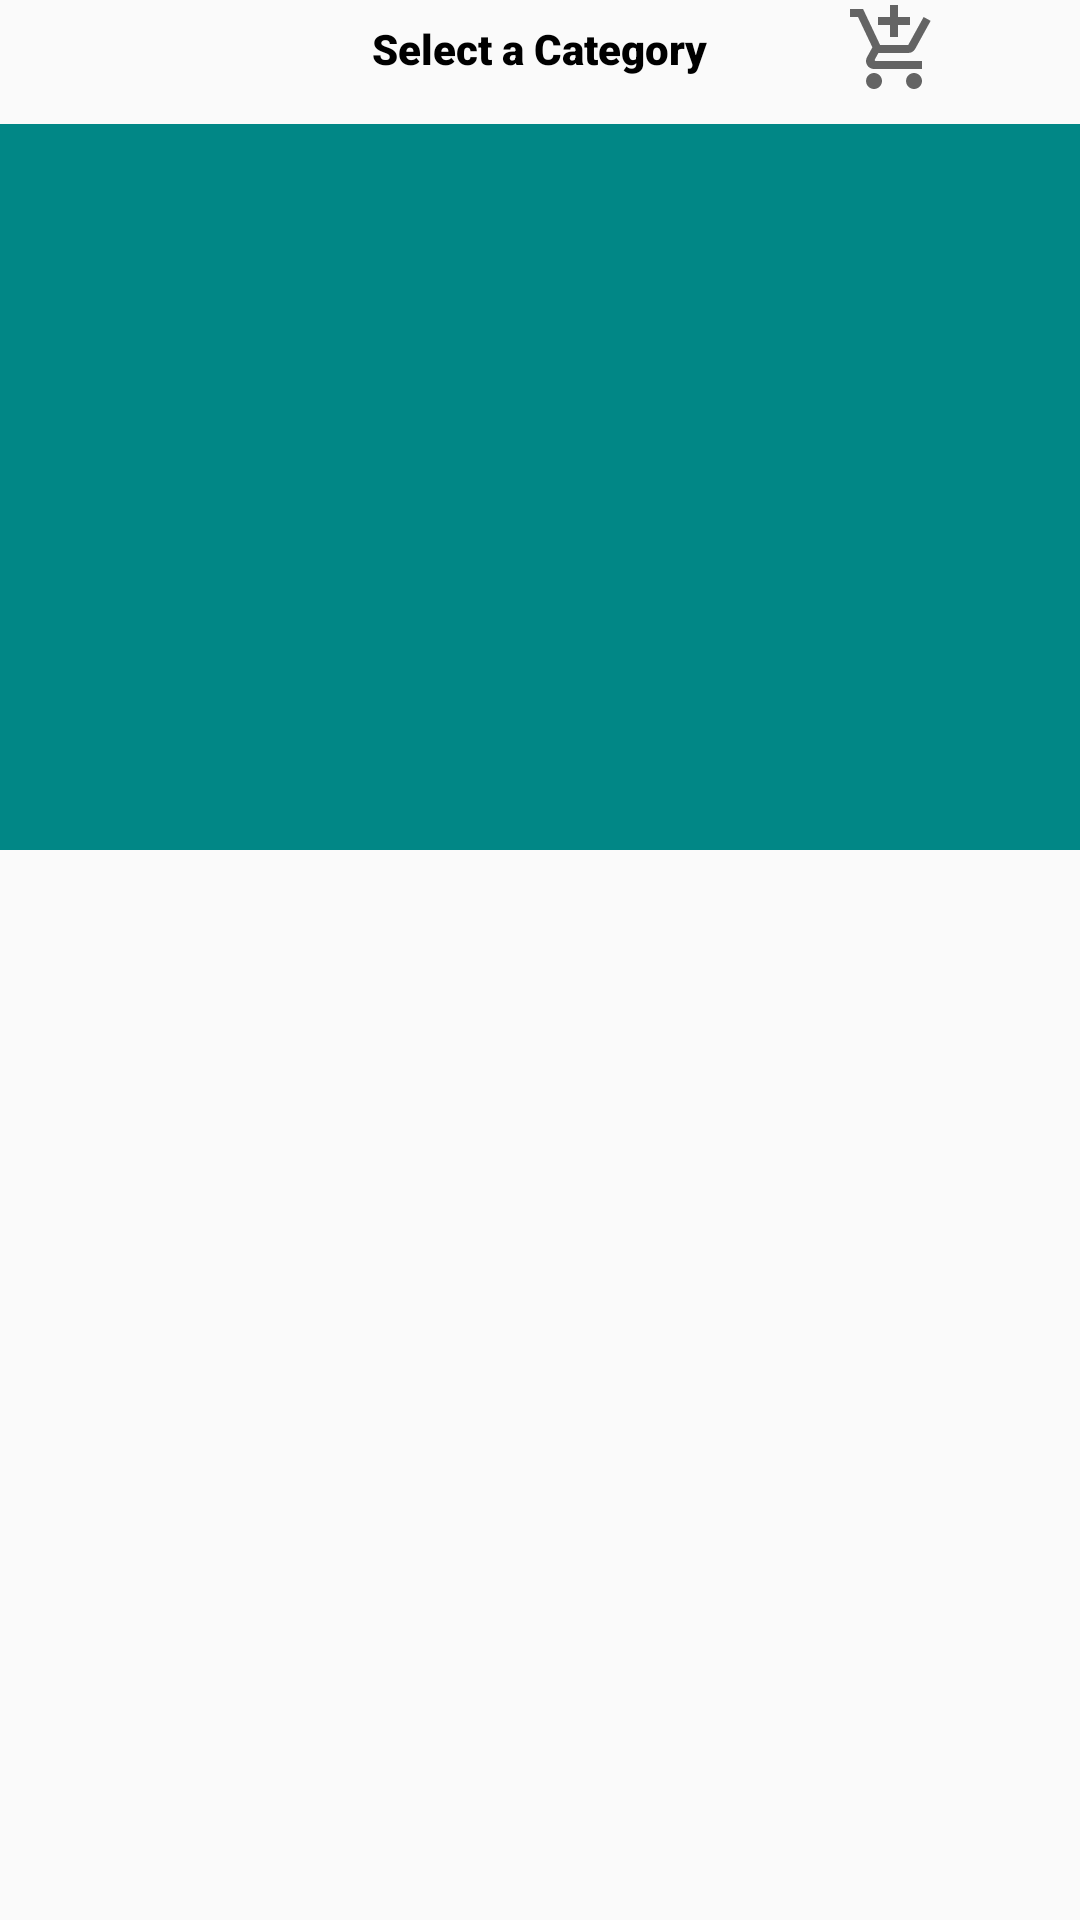

Where icons sit on this 1080x1920 app screen, as (x1, y1, x2, y2):
cart shopping: (850, 5, 931, 89)
